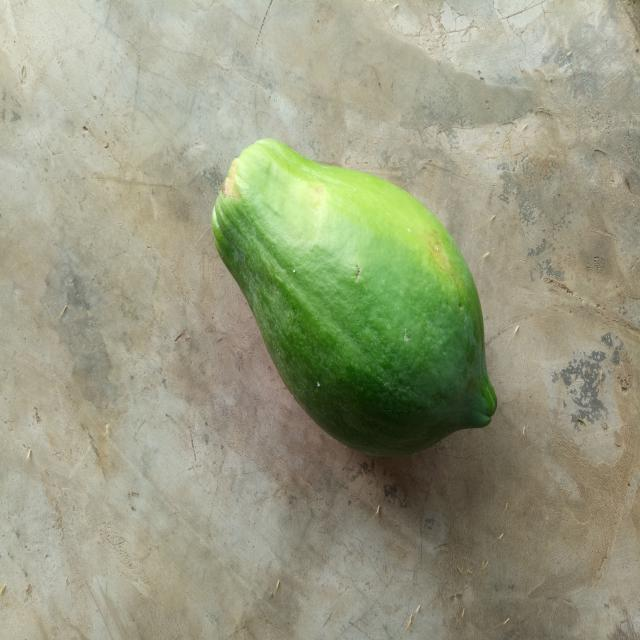Pepaya unrippen: (214, 137, 502, 455)
